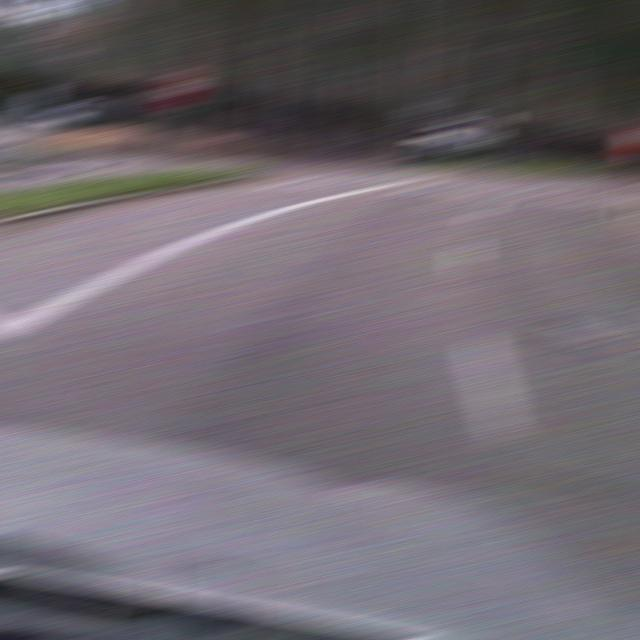stop_sign: (153, 70, 198, 109)
